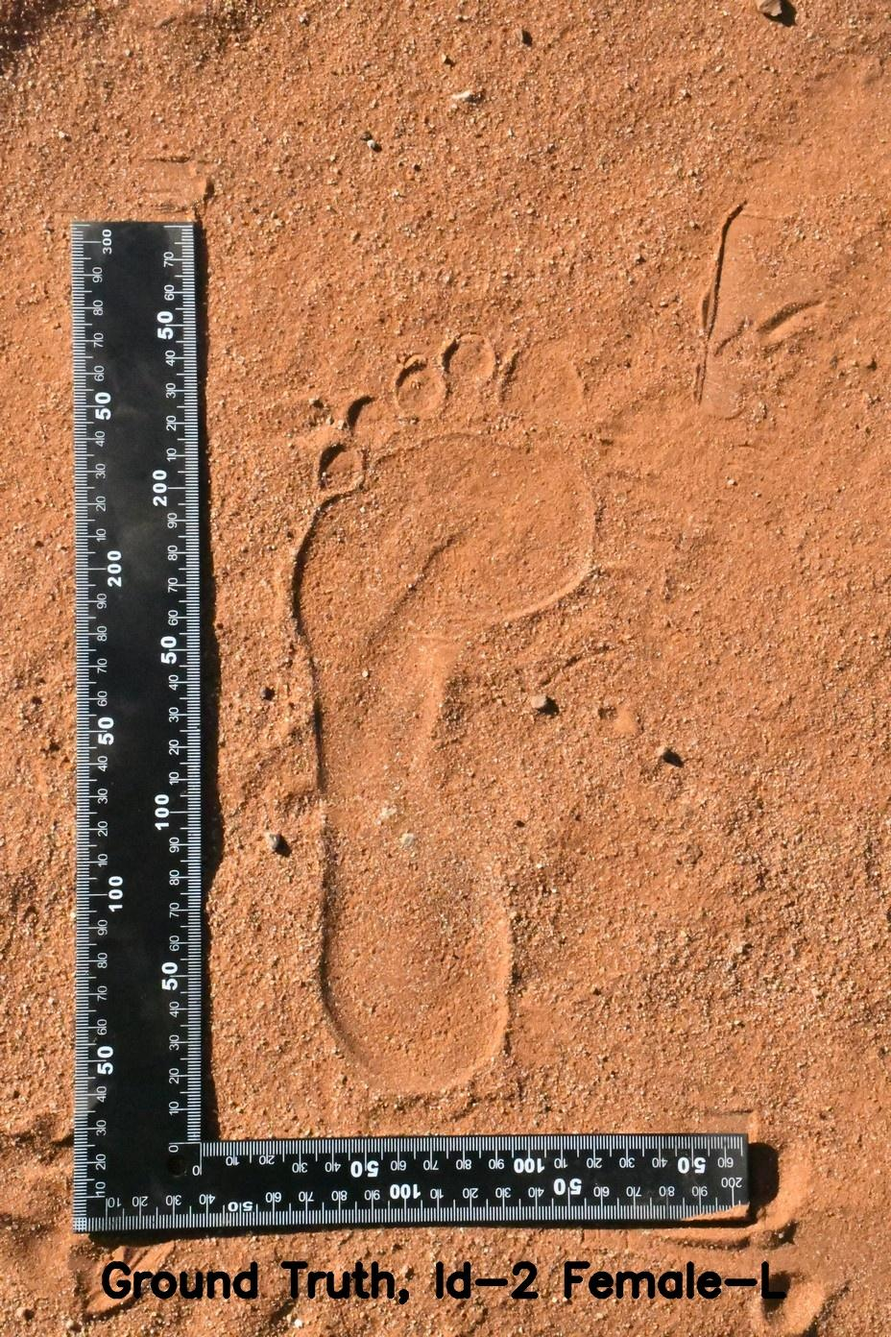human_foot_print: (250, 305, 666, 1136)
